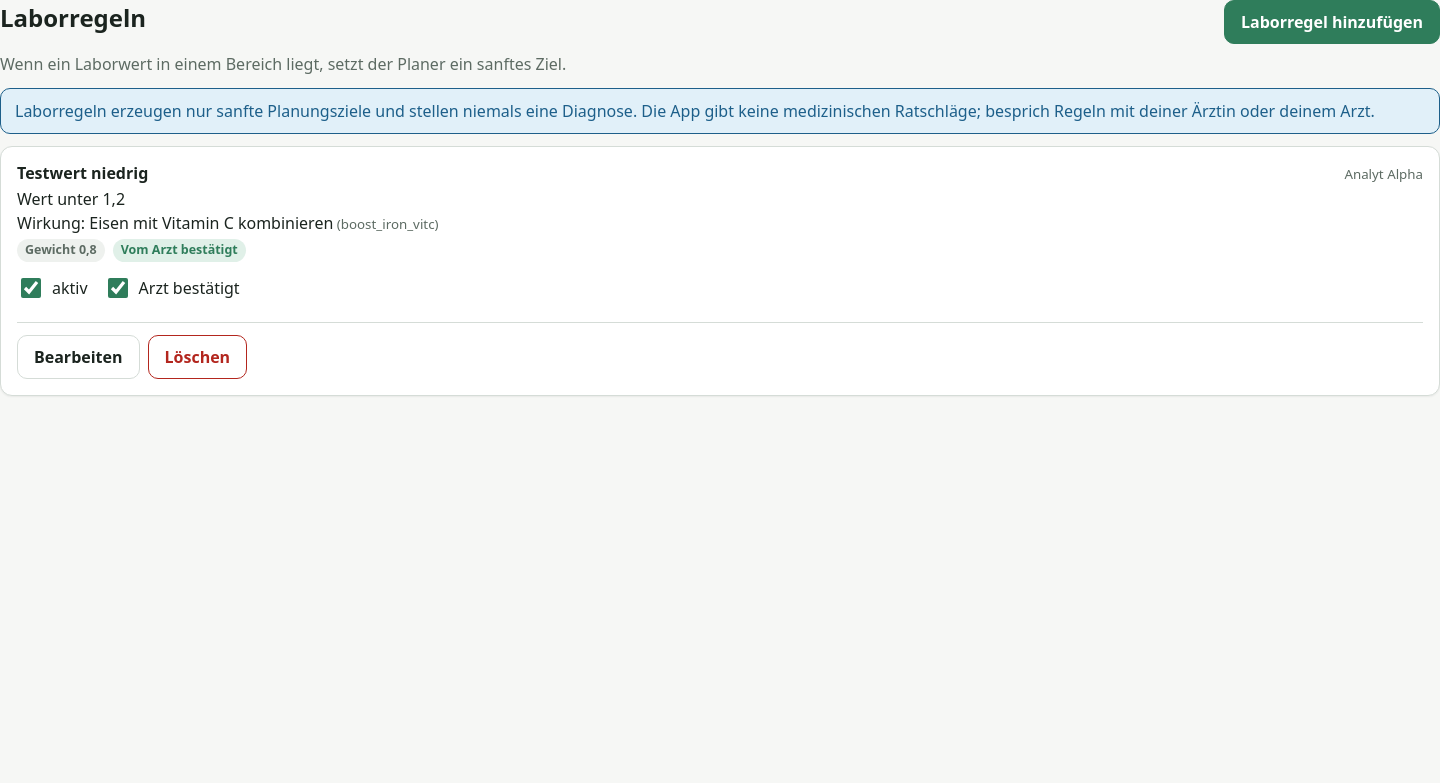
Scenario: Laborregeln › zeigt Schwellenwerte abhängig von der Bedingung
Click the button "Laborregel hinzufügen". click: (1332, 22)
box: [1224,0,1439,44]
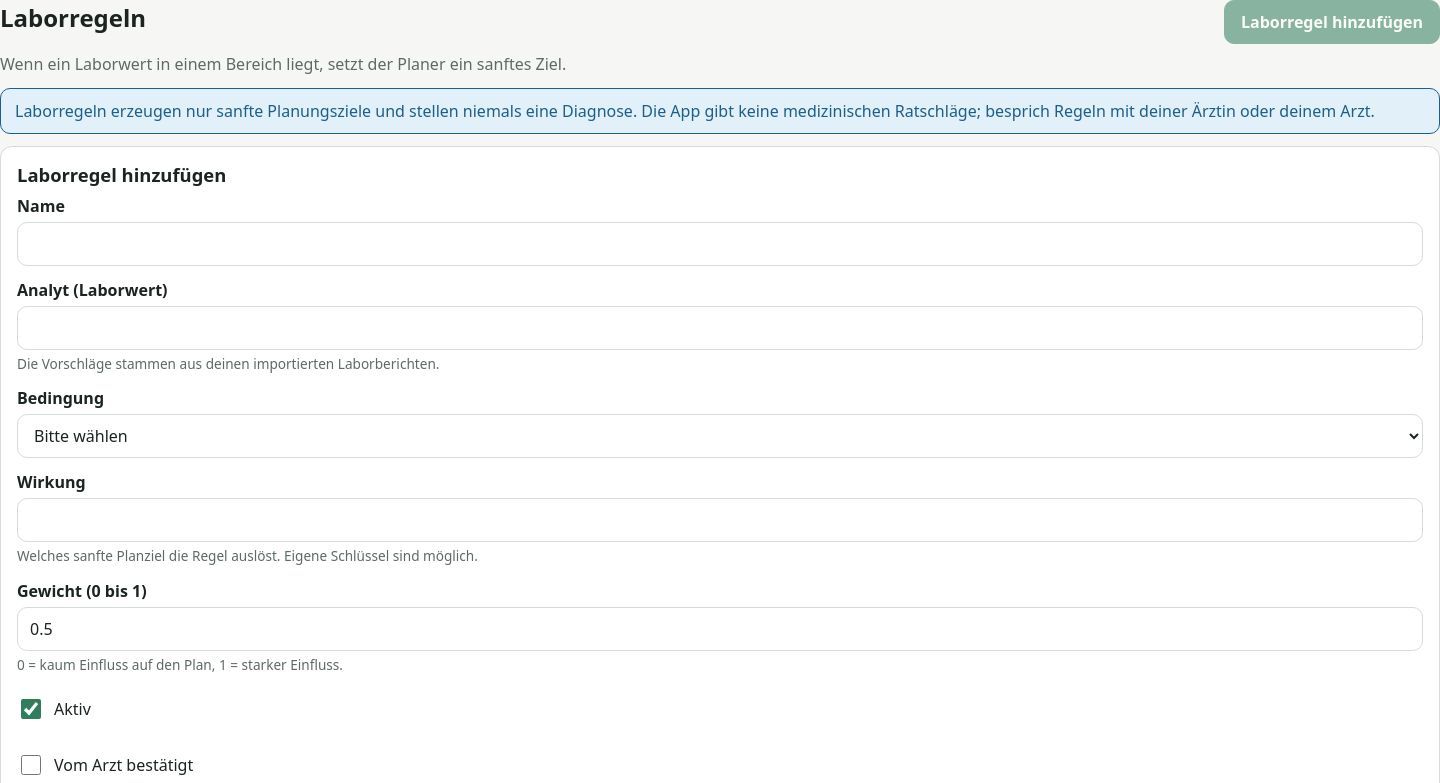
Expected: the field labelled "Schwellenwert" is not shown
Result: the dropdown labelled "Bedingung" shows "Bitte wählen"
Select "kleiner als" in the dropdown labelled "Bedingung". click: (720, 436)
box: [17,414,1423,458]
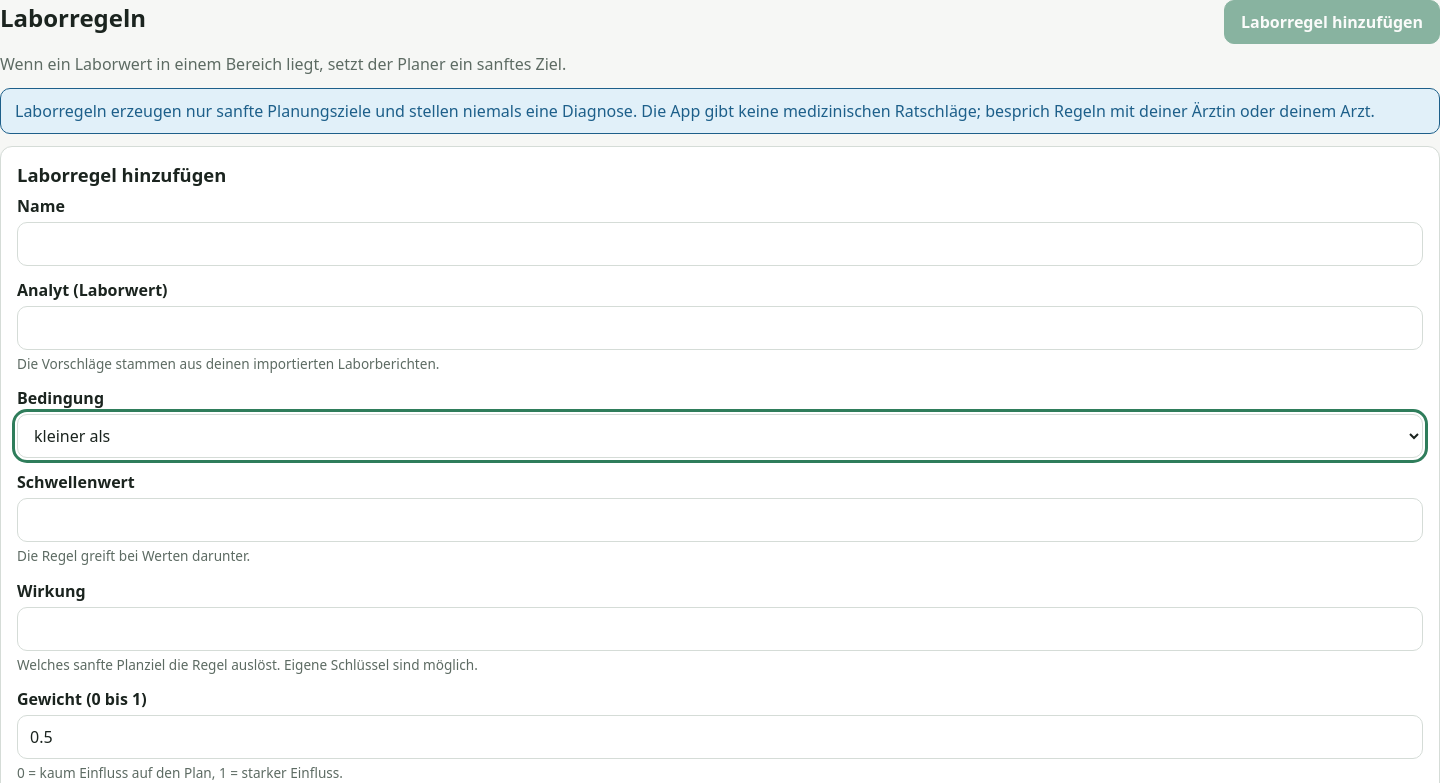
Expected: the number field labelled "Schwellenwert" is shown, [17,498,1423,542]
Expected: the field labelled "Untere Grenze" is not shown
Select "größer als" in the dropdown labelled "Bedingung". click: (720, 436)
box: [17,414,1423,458]
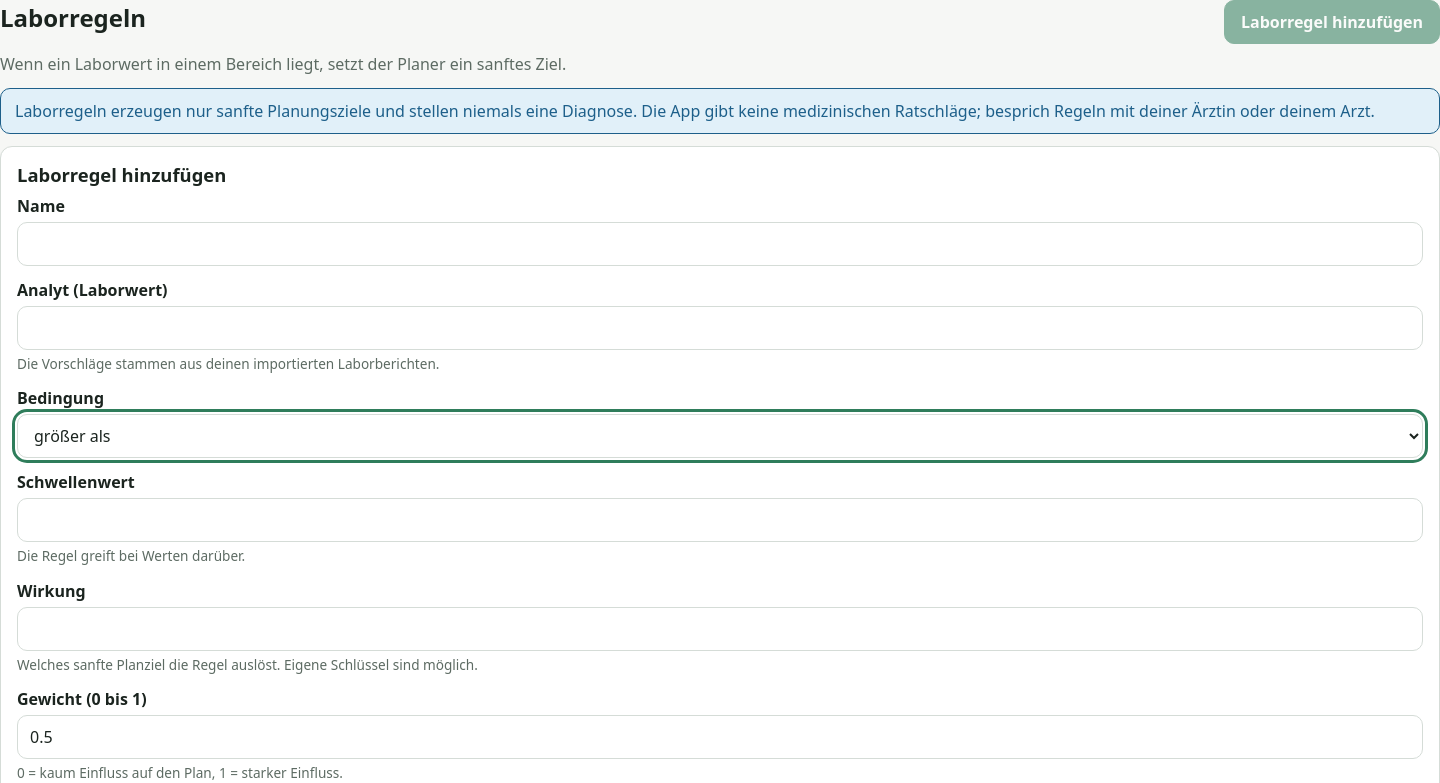
Result: the number field labelled "Schwellenwert" is shown at [17,498,1423,542]
Select "zwischen" in the dropdown labelled "Bedingung". click: (720, 436)
box: [17,414,1423,458]
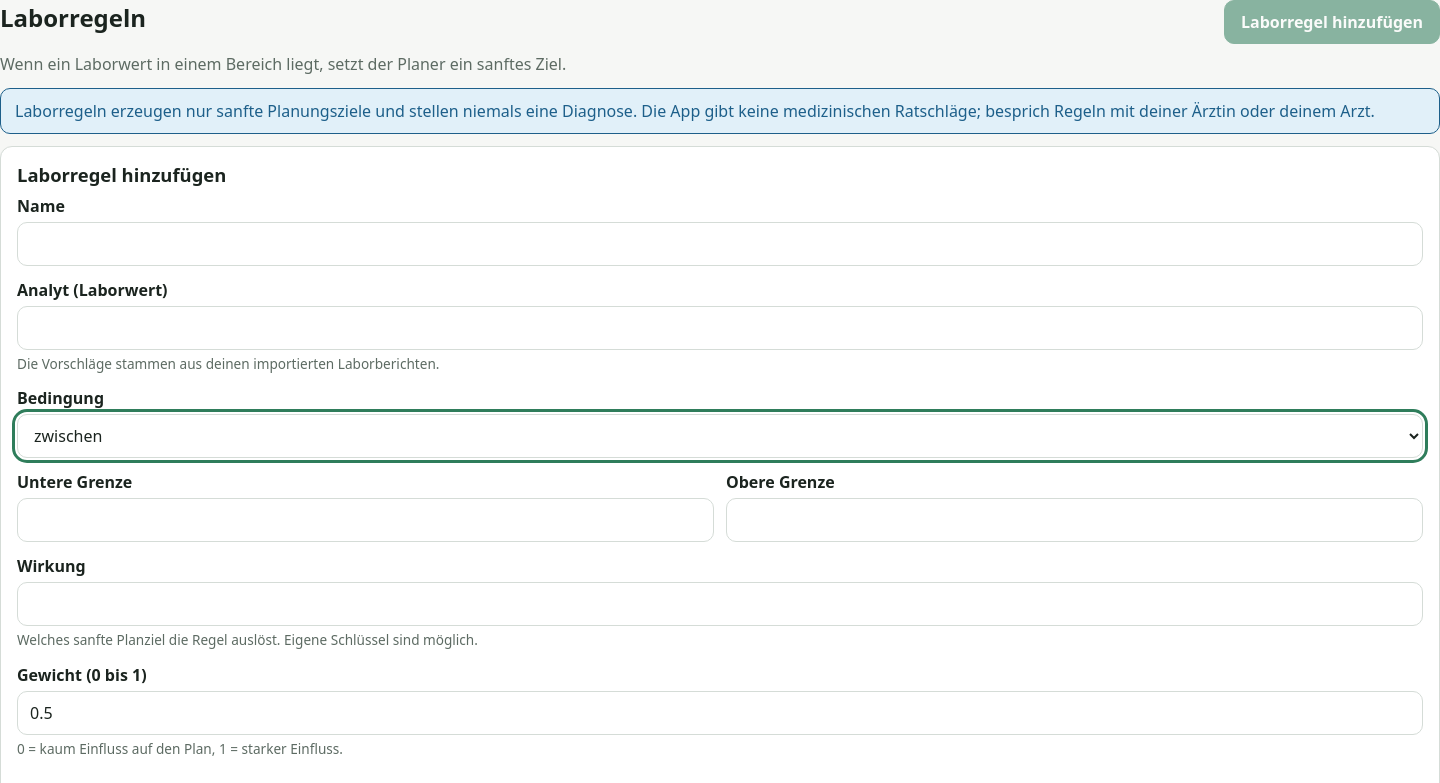
Result: the label labelled "Schwellenwert" is gone
Result: the number field labelled "Untere Grenze" is shown at [17,498,714,542]
Result: the number field labelled "Obere Grenze" is shown at [726,498,1423,542]
Select "außerhalb des Referenzbereichs" in the dropdown labelled "Bedingung". click: (720, 436)
box: [17,414,1423,458]
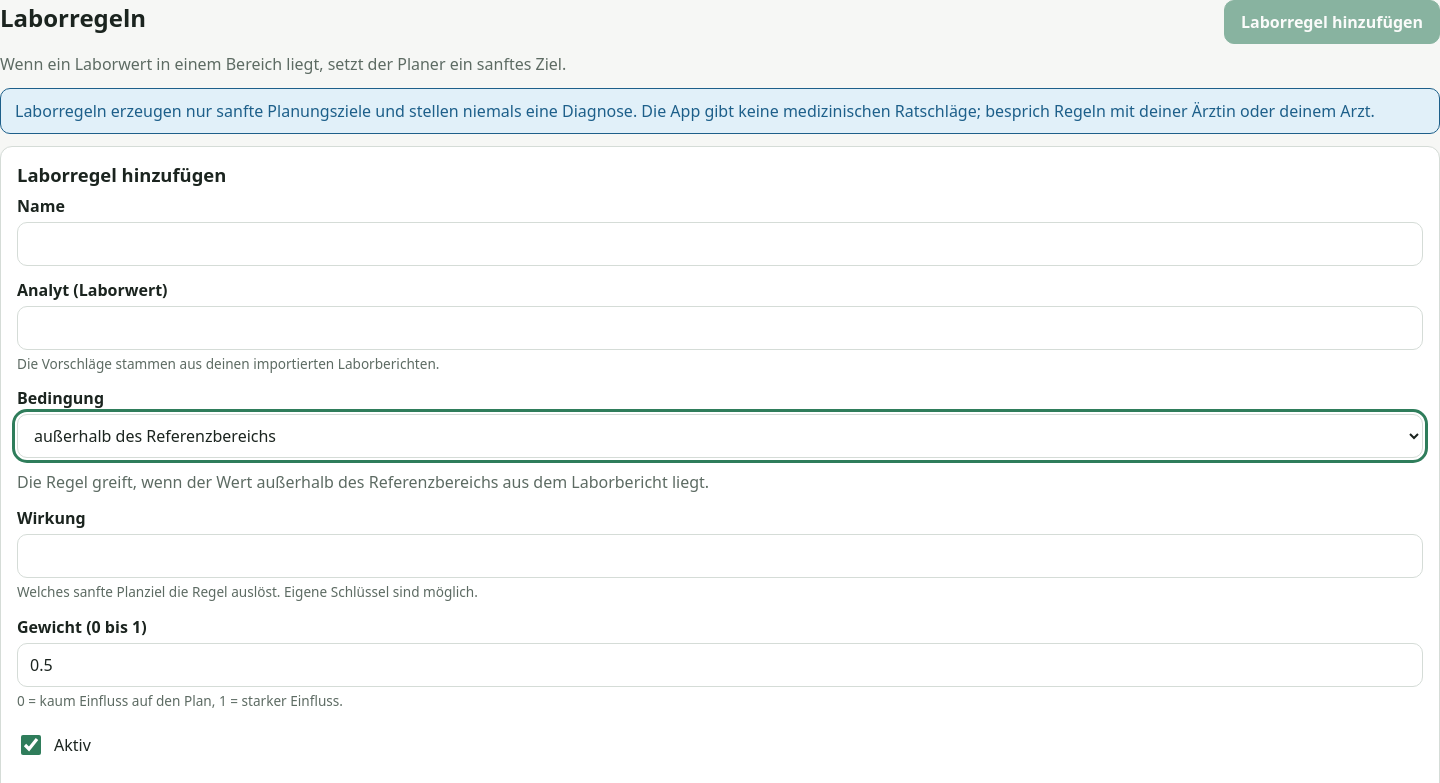
Result: the label labelled "Untere Grenze" is gone
Result: the text "außerhalb des Referenzbereichs aus dem Laborbericht" is shown at [17,471,709,493]
